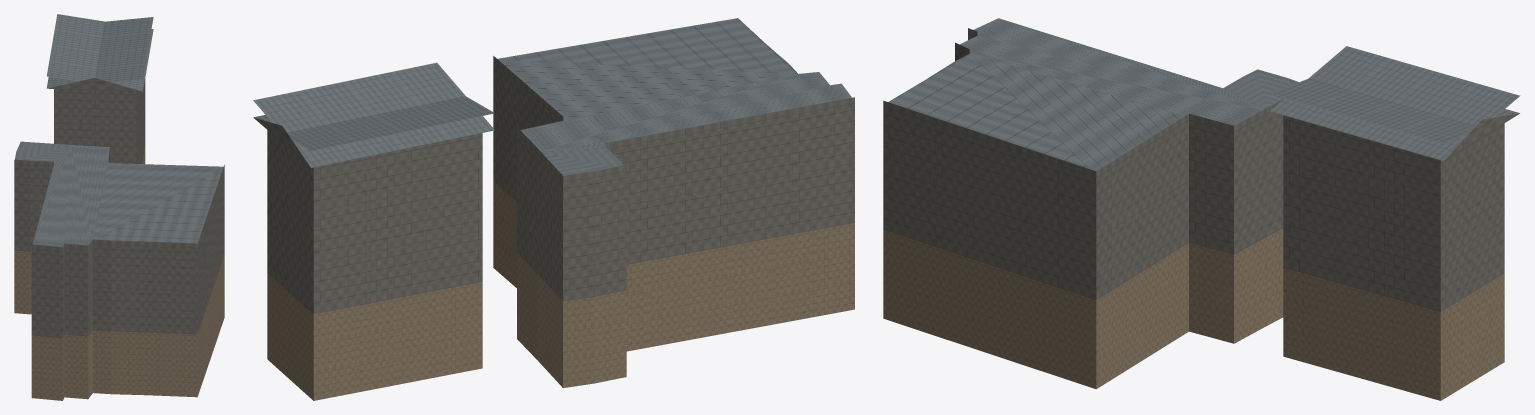
The model's file is bld_c-23_11_551.gltf.
3 renders of one model, left to right at view 1: azimuth 30°, elevation 25°; view 2: azimuth 150°, elevation 25°; view 3: azimuth 270°, elevation 25°, orthographic. The views are drawn at different scales.
Visible parts, largest first — view 1: bld_c-23_11_551; view 2: bld_c-23_11_551; view 3: bld_c-23_11_551.
Part boxes in pixels (<box>): bld_c-23_11_551: <box>14,14,224,400</box>; bld_c-23_11_551: <box>253,18,854,400</box>; bld_c-23_11_551: <box>883,18,1520,400</box>.
Bounding box in the file's own units: 23.69 × 16.1 × 33.05.
Materials: 4 (4 with a texture image).
